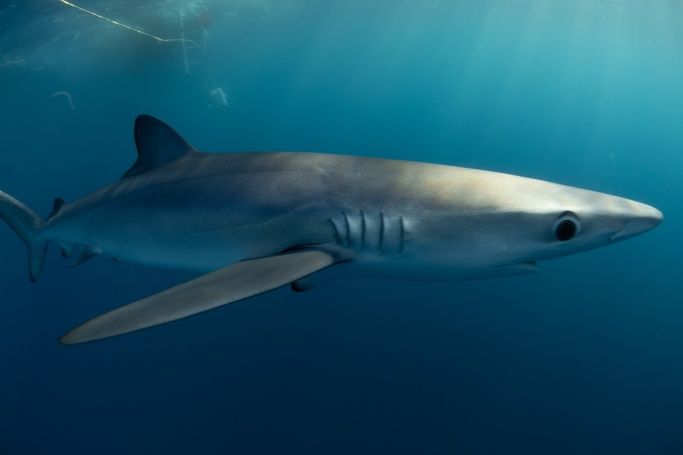Azul: (1, 108, 672, 350)
